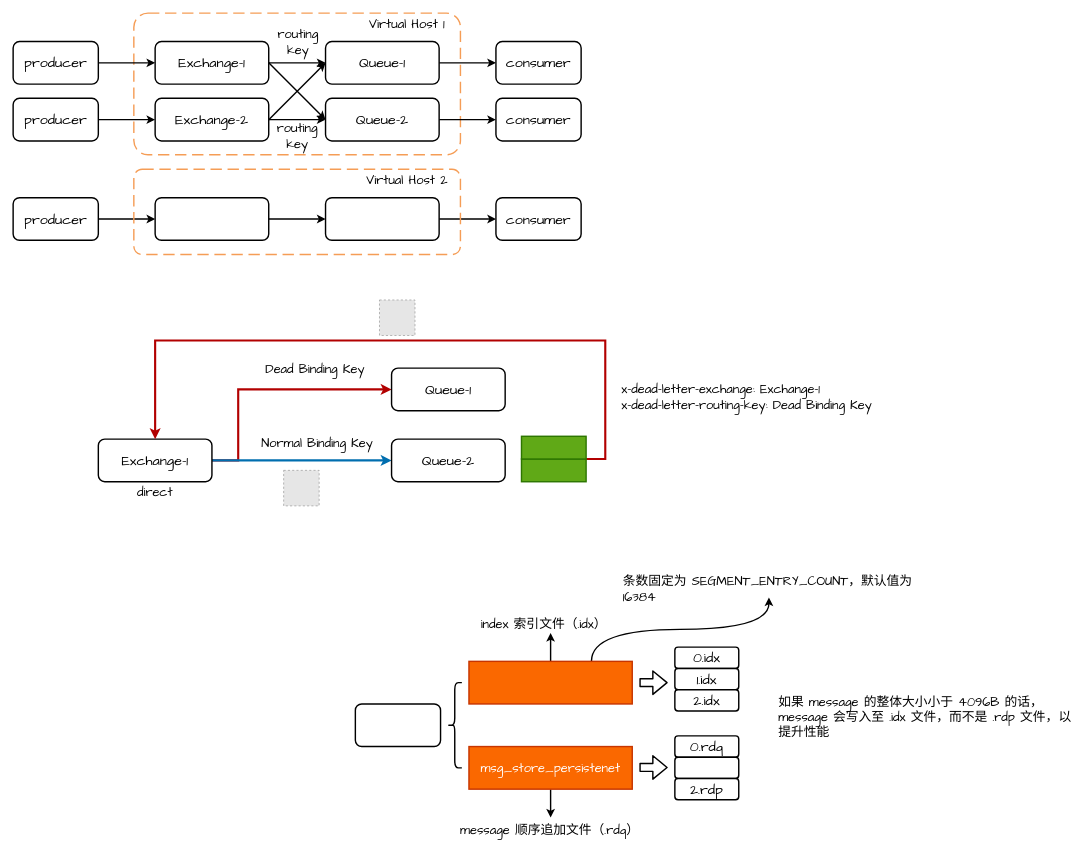
Some shapes in this 1083 by 851 pixel diagram are drawn without their labels. Grey dashed boxes stand in for pictures. Each missing label, with the centre of its shape:
"1.rdp" goes at (706,767).
"Exchange-3" goes at (211,219).
"message" goes at (553,447).
"Queue File" goes at (397,725).
"Queue-3" goes at (381,219).
"rabbit_queue_index" goes at (550,682).
"TTL = 20" goes at (553,470).
